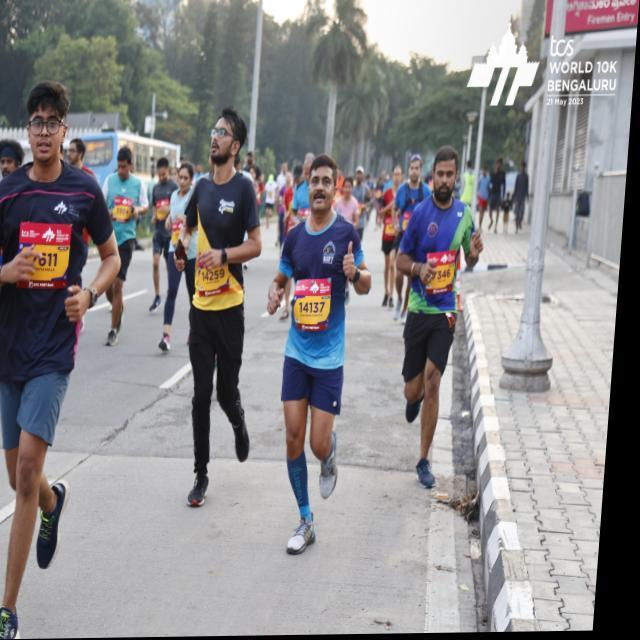dorsal: (292, 278, 342, 346), (424, 250, 463, 300)
